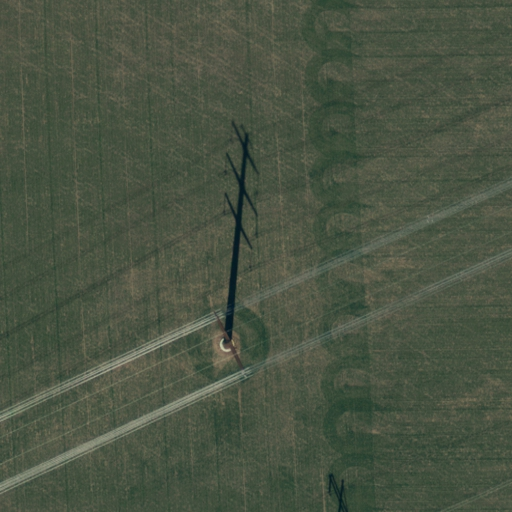TT: (206, 308, 252, 384)
